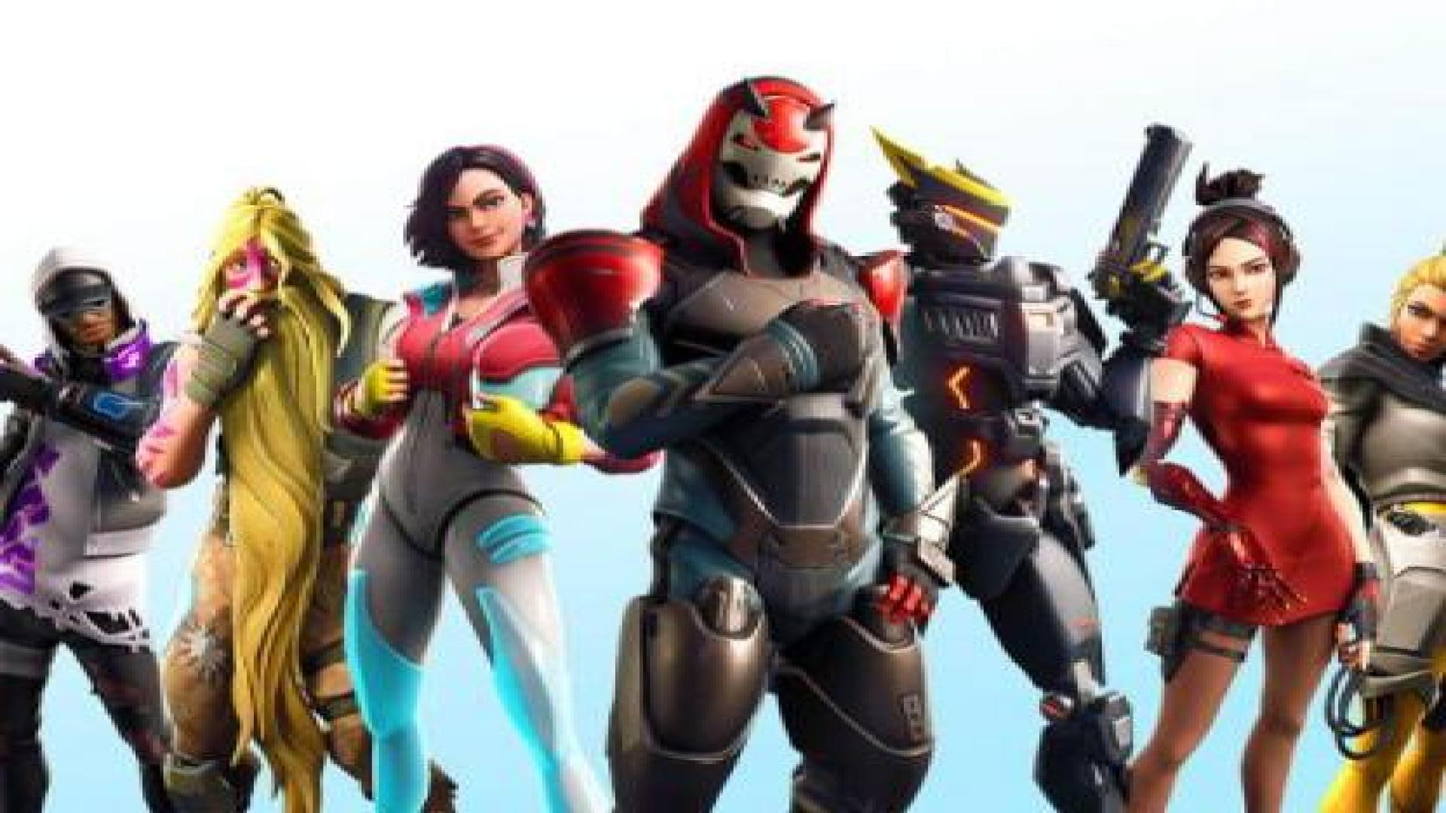player: (858, 117, 1189, 813), (329, 141, 666, 813), (1121, 158, 1389, 813), (1317, 244, 1446, 813)
